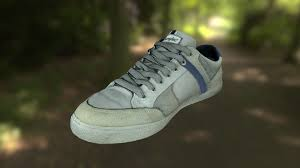shoe: (43, 35, 229, 146)
